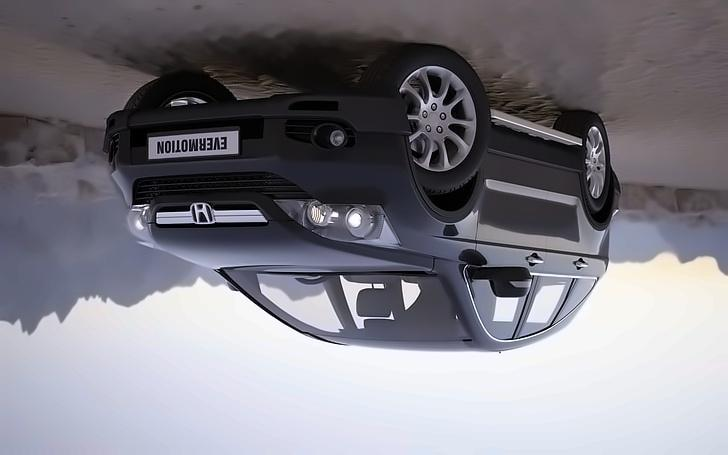Car hood: (144, 221, 435, 272)
Driver-s door - -F-R-: (469, 106, 543, 354)
Fender - -F-R-: (386, 161, 489, 281)
Fender - -R-R-: (581, 199, 614, 282)
Front bumper: (98, 88, 420, 188)
Headlight - -L-: (120, 200, 161, 250)
Headlight - -R-: (269, 193, 407, 253)
Passenger-s door - -R-R-: (537, 134, 591, 351)
Rear bumper: (603, 164, 632, 222)
Side bumper - -R-: (483, 103, 588, 158)
Side mirror - -L-: (219, 273, 245, 300)
Side mirror - -R-: (469, 255, 535, 303)
